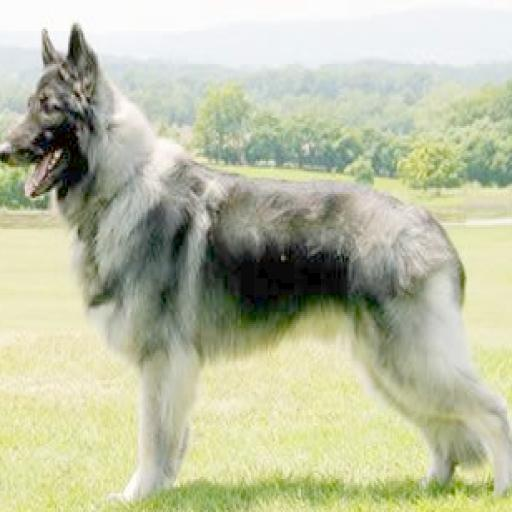dog_face: (0, 27, 95, 210)
